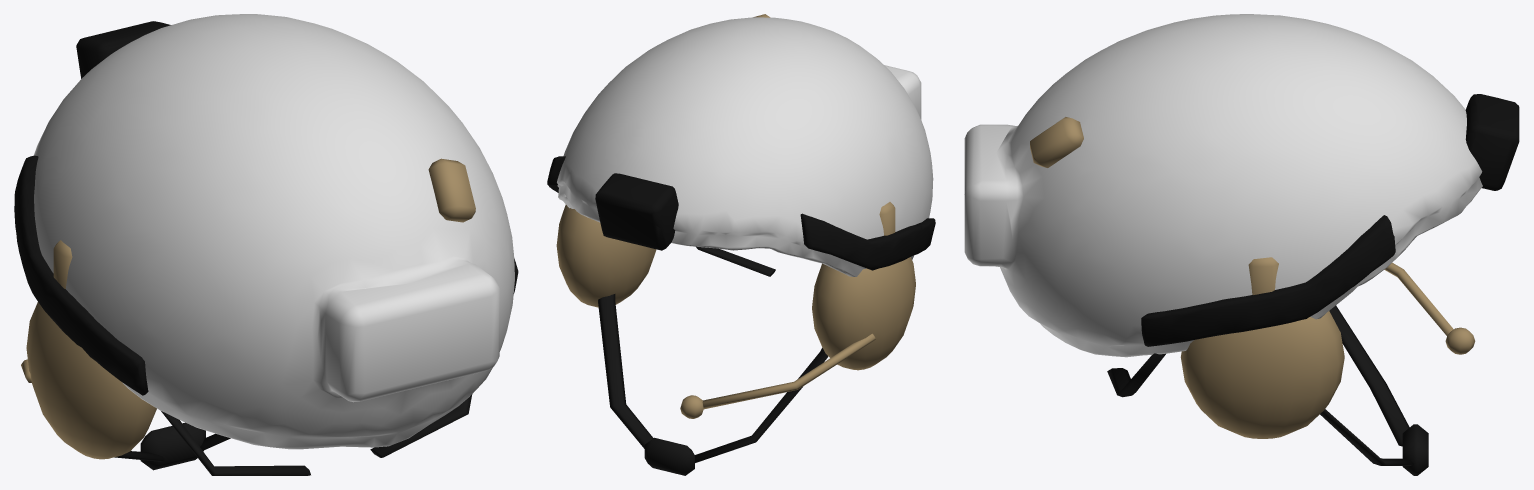
File: nato_helmet.glb
3 renders of one model, left to right at view 1: azimuth 30°, elevation 25°; view 2: azimuth 150°, elevation 25°; view 3: azimuth 270°, elevation 25°, orthographic. The views are drawn at different scales.
Parts seen in each view (by area): view 1: nato_helmet_LOD0; view 2: nato_helmet_LOD0; view 3: nato_helmet_LOD0.
Part boxes in pixels (<box>): nato_helmet_LOD0: <box>14,14,518,475</box>; nato_helmet_LOD0: <box>547,14,935,475</box>; nato_helmet_LOD0: <box>964,14,1519,475</box>.
Size of what is drawn, in the model's own units: 0.2538 by 0.2759 by 0.3203.
